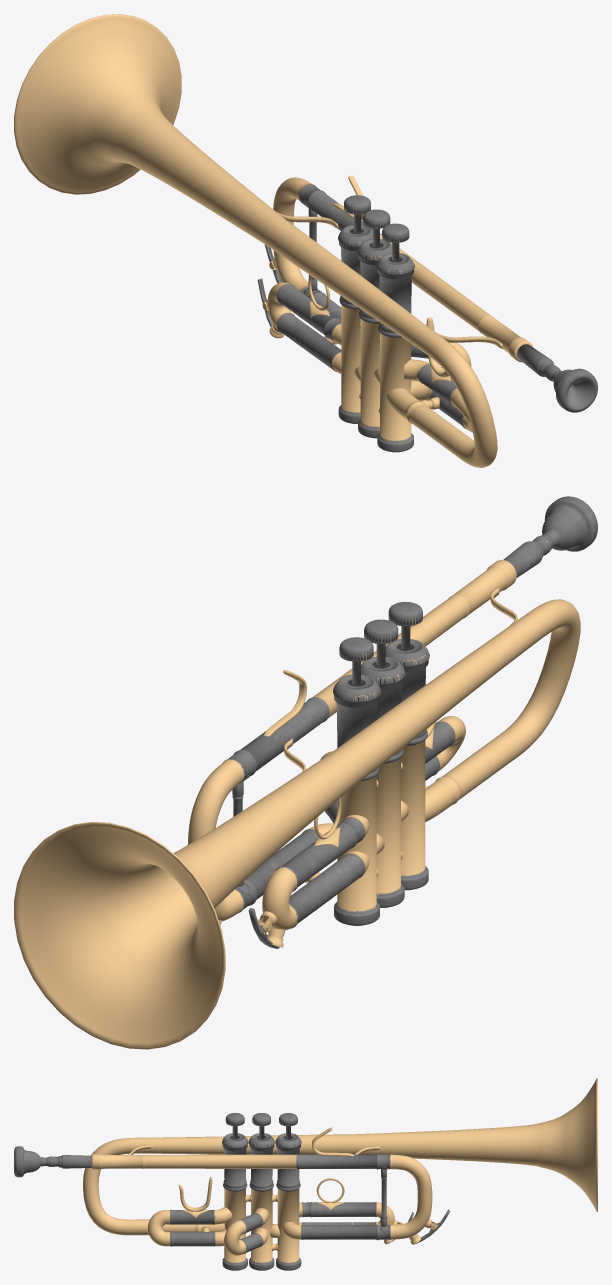
The model's file is trumpet.gltf.
3 views of the same model, one above another, from view 1: azimuth 30°, elevation 25°; view 2: azimuth 150°, elevation 25°; view 3: azimuth 270°, elevation 25° (orthographic). The views are drawn at different scales.
Parts seen in each view (by area): view 1: Trumpet; view 2: Trumpet; view 3: Trumpet.
Part boxes in pixels (x1,y1,x2,y2): Trumpet: (14,14,597,467); Trumpet: (14,496,597,1049); Trumpet: (14,1078,597,1270).
Bounding box in the file's own units: 1.25 × 1.56 × 4.8.
1 material, 1 textured.
